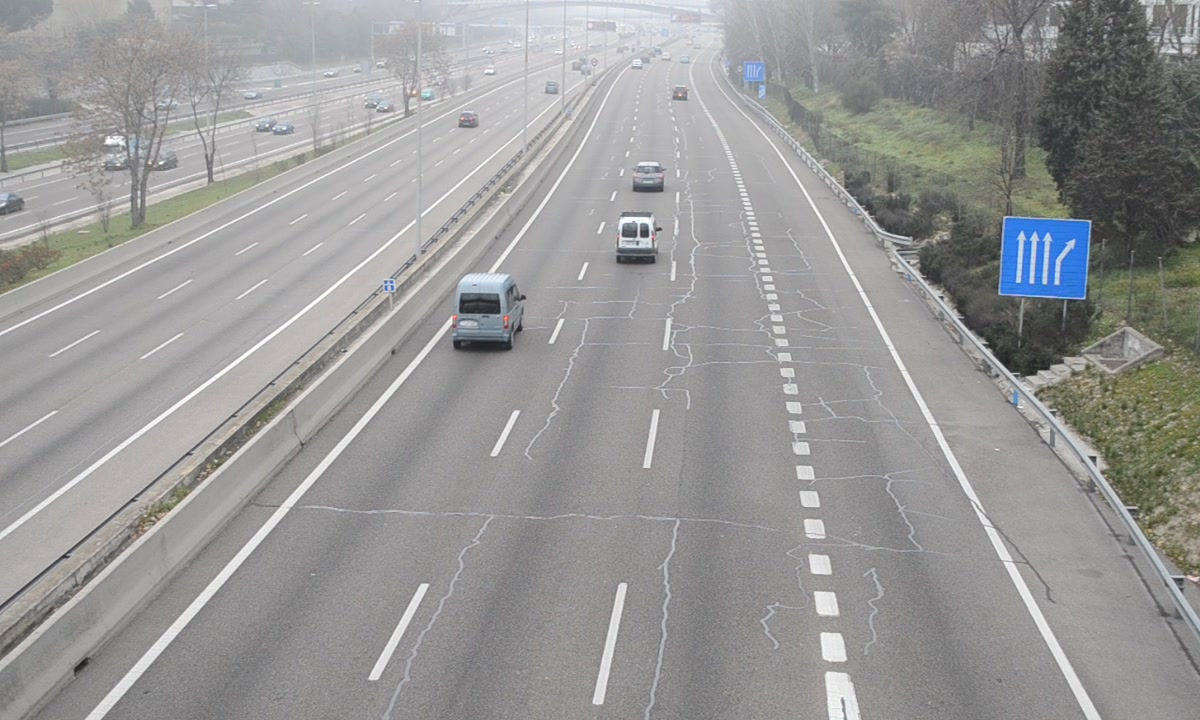car: (631, 162, 666, 194)
van: (453, 275, 524, 346), (616, 214, 656, 262)
